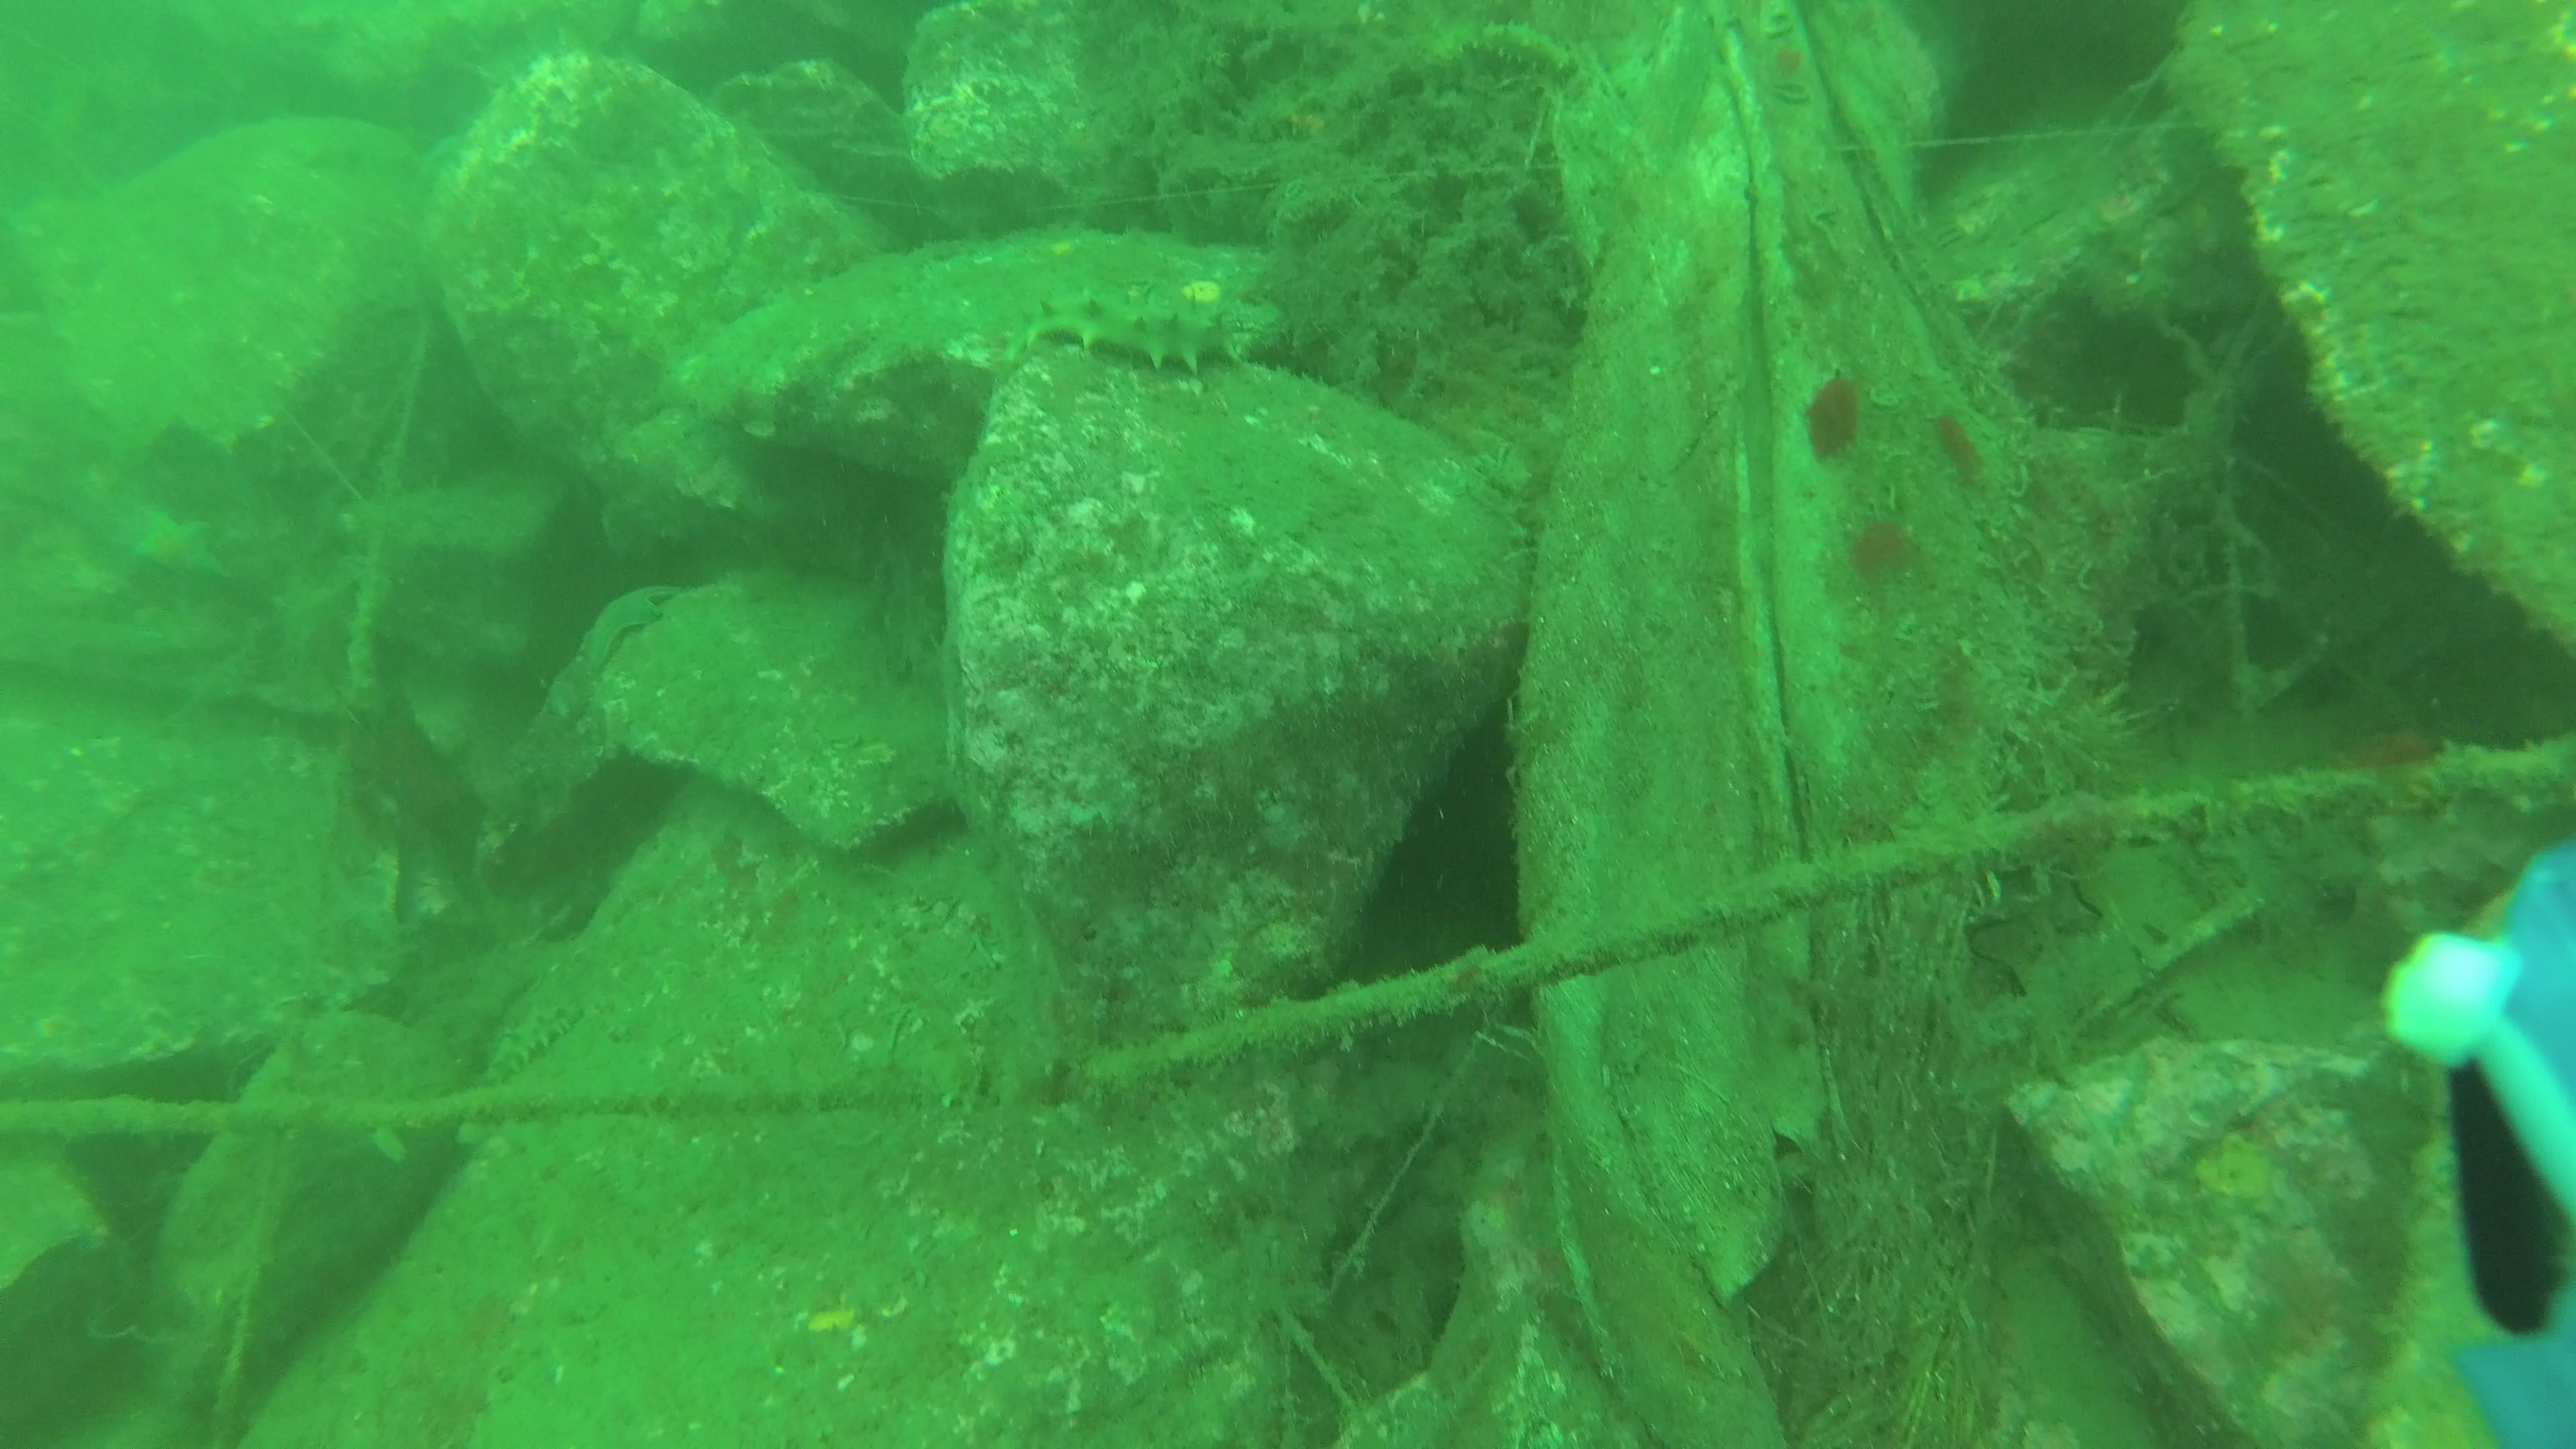holothurian: (1010, 283, 1244, 384)
starfish: (117, 494, 239, 603)
